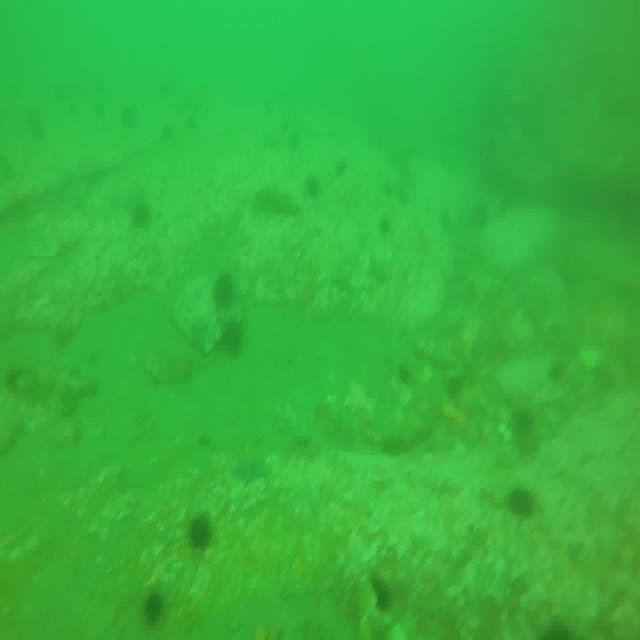echinus: (188, 513, 215, 554), (509, 487, 533, 523), (144, 592, 168, 628), (221, 324, 245, 356), (216, 273, 234, 311), (130, 201, 151, 229), (306, 176, 325, 204), (123, 102, 144, 126), (378, 212, 393, 240), (336, 153, 348, 175), (164, 120, 176, 142)
starfish: (234, 454, 273, 486)
